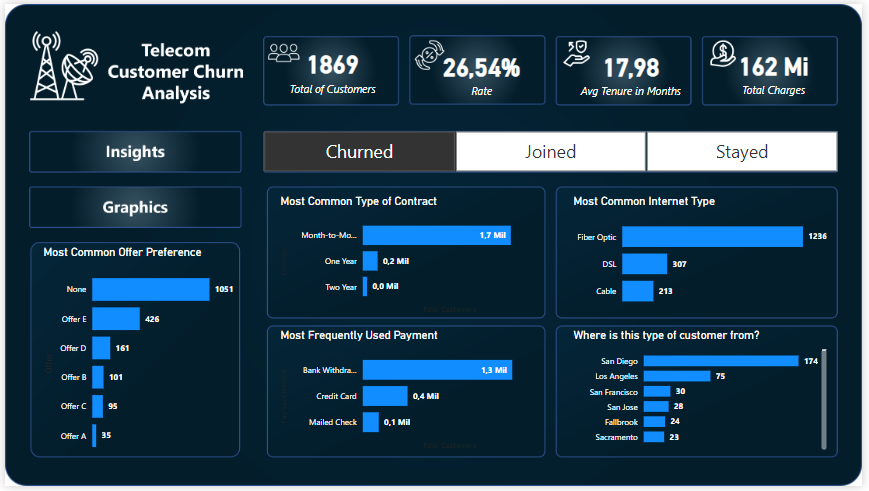

The page's visual inventory and layout, read from the dashboard file:
{"tool":"powerbi","page":{"name":"Página 2","canvas":[1280,720],"ordinal":1},"visuals":[{"type":"clusteredBarChart","title":"Most Common Offer Preference","fields":{"Category":["telecom_customer_churn.Offer"],"Y":["telecom_customer_churn.Total_Customers"]},"box":[51.7,360,300,325],"z":0},{"type":"clusteredBarChart","title":"Most Common Type of Contract","fields":{"Y":["telecom_customer_churn.Total_Customers"],"Category":["telecom_customer_churn.Contract"]},"box":[406.7,283.3,391.7,183.3],"z":1000},{"type":"slicer","fields":{"Values":["telecom_customer_churn.Customer Status"]},"box":[361.7,183.3,905,73.3],"z":2000},{"type":"clusteredBarChart","title":"Most Common Internet Type","fields":{"Y":["telecom_customer_churn.Total_Customers"],"Category":["telecom_customer_churn.Internet Type"]},"box":[843.3,283.3,388.3,183.3],"z":3000},{"type":"card","fields":{"Values":["telecom_customer_churn.Total_Customers"]},"box":[406,50.7,165.7,94],"z":4000},{"type":"card","fields":{"Values":["Sum(telecom_customer_churn.Total Charges)"]},"box":[1063.3,48.3,168.3,105],"z":5000},{"type":"card","fields":{"Values":["telecom_customer_churn.Percentage_Selected_Status"]},"box":[611.9,55.2,198.5,92.5],"z":6000},{"type":"card","fields":{"Values":["telecom_customer_churn.Avg_Tenure_Months"]},"box":[843.3,51.7,181.7,98.3],"z":7000},{"type":"clusteredBarChart","title":"Most Frequently Used Payment","fields":{"Y":["telecom_customer_churn.Total_Customers"],"Category":["telecom_customer_churn.Payment Method"]},"box":[406.7,483.3,391.7,186.7],"z":8000},{"type":"clusteredBarChart","title":"Where is this type of customer from?","fields":{"Y":["telecom_customer_churn.Total_Customers"],"Category":["telecom_customer_churn.City"]},"box":[843.3,483.3,388.3,186.7],"z":9000},{"type":"actionButton","box":[33.3,183.3,318.3,73.3],"z":10000},{"type":"actionButton","box":[33.3,271.7,318.3,61.7],"z":11000}]}

Visuals, with their boxes in screenshot pixels (x1, y1, x2, y2), scaled from the page's 1280x720 canvas onto the 869x491 screenshot:
"Most Common Offer Preference" clusteredBarChart: <bbox>35, 246, 239, 467</bbox>
"Most Common Type of Contract" clusteredBarChart: <bbox>276, 193, 542, 318</bbox>
slicer - telecom_customer_churn.Customer Status: <bbox>246, 125, 860, 175</bbox>
"Most Common Internet Type" clusteredBarChart: <bbox>573, 193, 836, 318</bbox>
card - telecom_customer_churn.Total_Customers: <bbox>276, 35, 388, 99</bbox>
card - Sum(telecom_customer_churn.Total Charges): <bbox>722, 33, 836, 105</bbox>
card - telecom_customer_churn.Percentage_Selected_Status: <bbox>415, 38, 550, 101</bbox>
card - telecom_customer_churn.Avg_Tenure_Months: <bbox>573, 35, 696, 102</bbox>
"Most Frequently Used Payment" clusteredBarChart: <bbox>276, 330, 542, 457</bbox>
"Where is this type of customer from?" clusteredBarChart: <bbox>573, 330, 836, 457</bbox>
actionButton: <bbox>23, 125, 239, 175</bbox>
actionButton: <bbox>23, 185, 239, 227</bbox>
